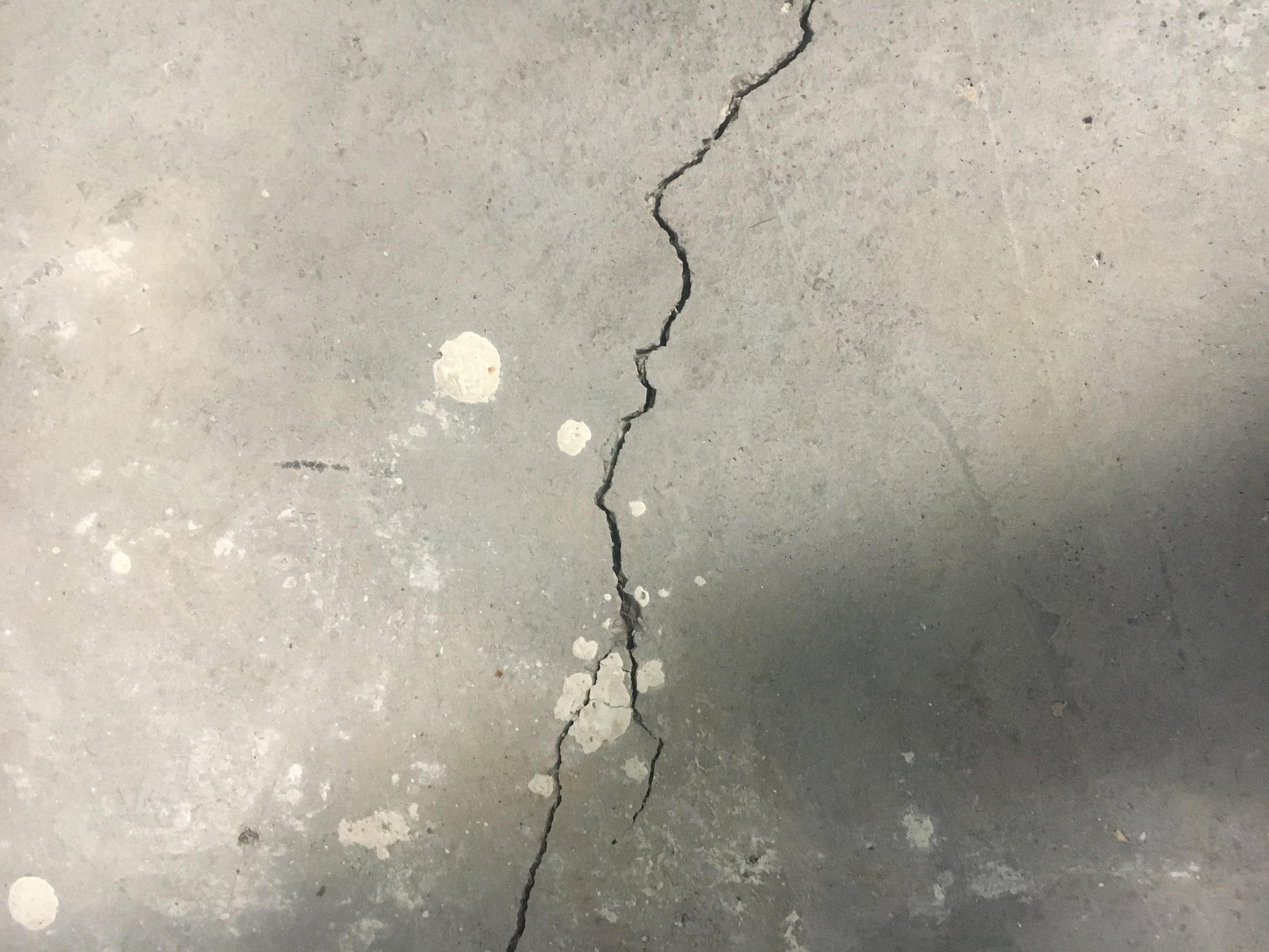Vertical Crack: (503, 2, 818, 947)
